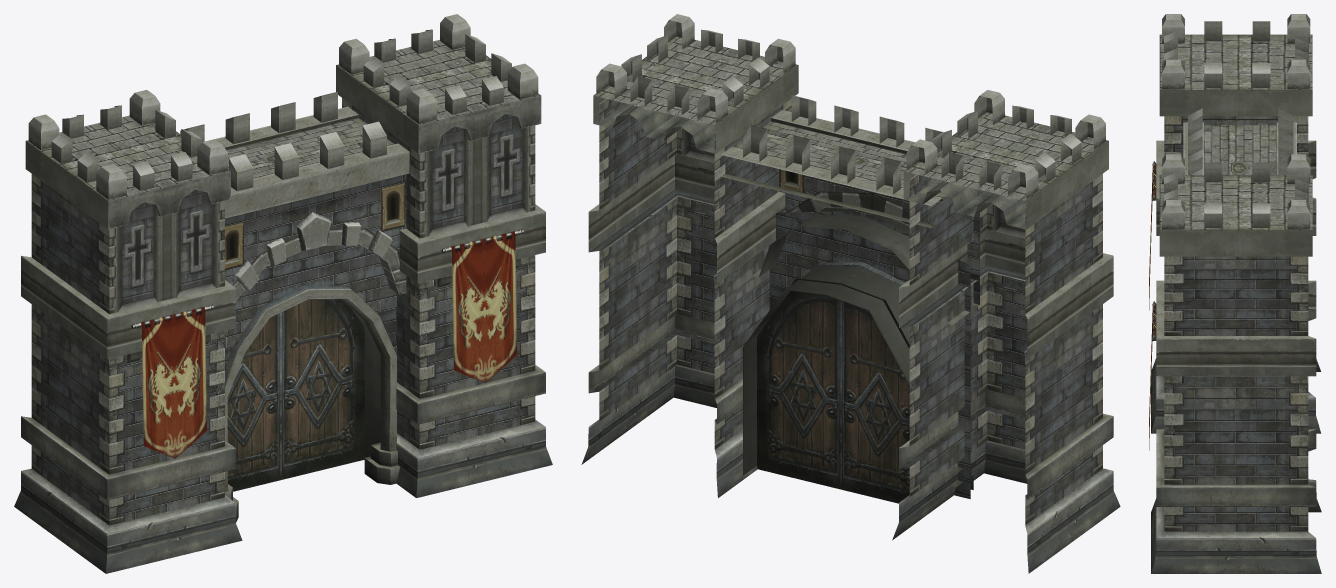
The model's file is SC_guowangchengbao_28.FBX.
3 renders of one model, left to right at view 1: azimuth 30°, elevation 25°; view 2: azimuth 150°, elevation 25°; view 3: azimuth 270°, elevation 25°, orthographic. The views are drawn at different scales.
Visible parts, largest first — view 1: SC_guowangchengbao_28; view 2: SC_guowangchengbao_28; view 3: SC_guowangchengbao_28.
Boxes of the visible parts, left/top/right/bottom form: SC_guowangchengbao_28: left=14, top=14, right=552, bottom=573; SC_guowangchengbao_28: left=581, top=14, right=1120, bottom=573; SC_guowangchengbao_28: left=1149, top=14, right=1321, bottom=573.
Bounding box in the file's own units: 1887 × 1583 × 682.
